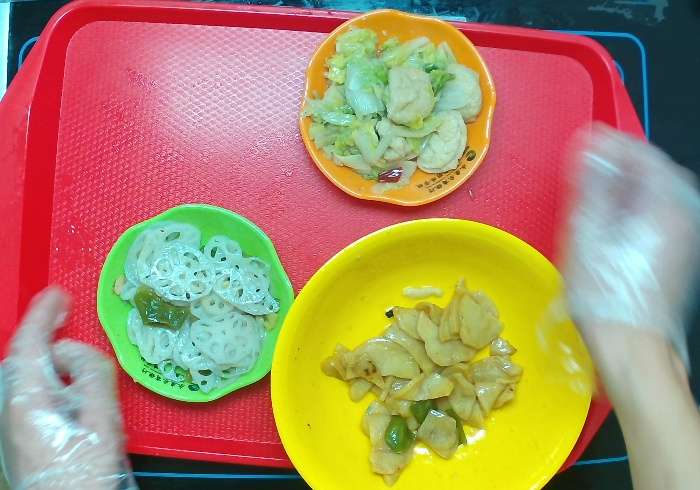YKMZ-Huang_Se_Tang_Wan: (268, 215, 600, 490)
YKMZ-Ju_Se_Ao_Bian_Wan: (298, 7, 499, 208)
YKMZ-Lv_Se_Ao_Bian_Wan: (95, 203, 296, 407)
